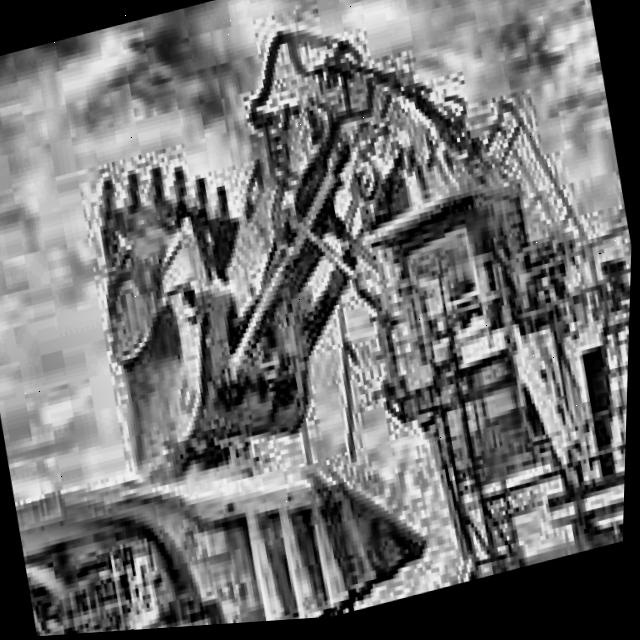dump_truck: (5, 370, 401, 639)
excavator: (54, 0, 640, 636)
